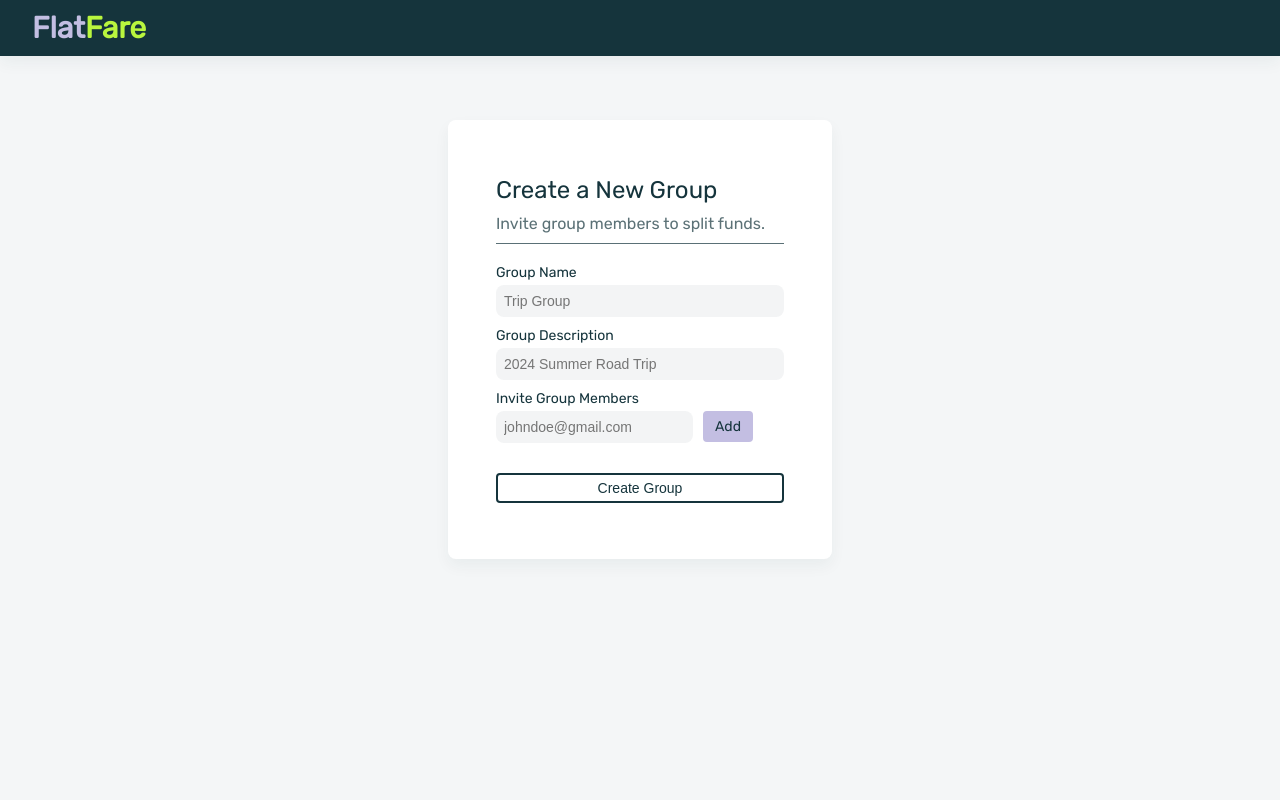
Test: CreateGroup Component › handles success state after submission
This screenshot has width=1280, height=800.
Fill form
In the field labelled "Group Name": (640, 301) [496, 285, 784, 317], type "Test Group"
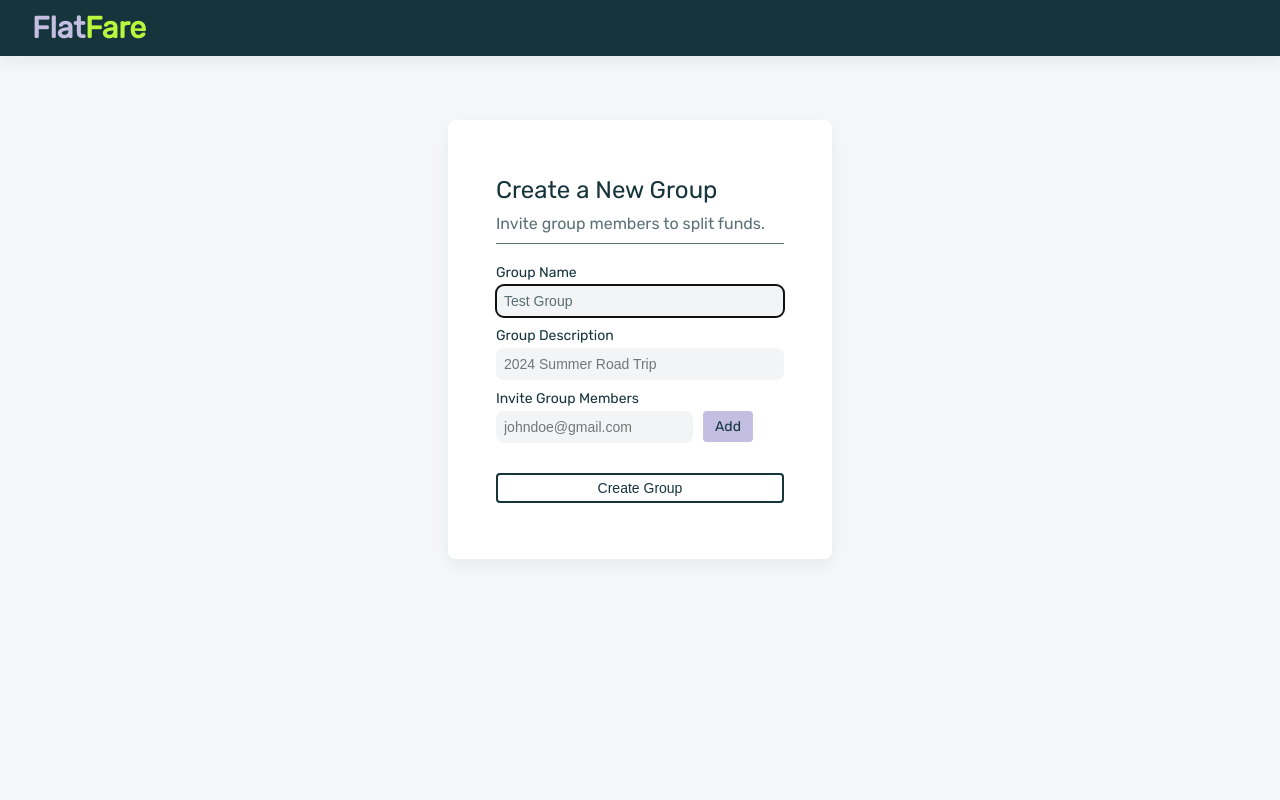
In the field labelled "Group Description": (640, 364) [496, 348, 784, 380], type "Test Description"
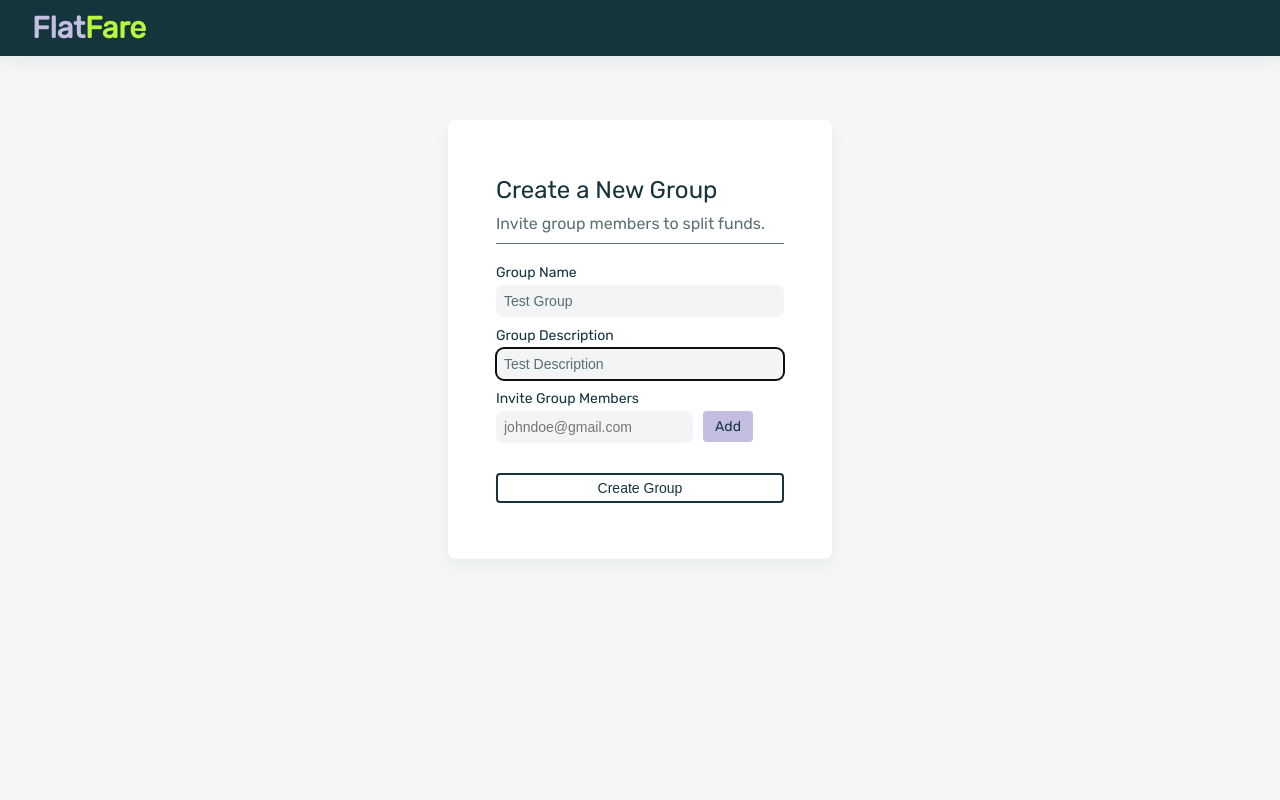
In the field labelled "Invite Group Members": (594, 427) [496, 411, 693, 443], type "test@example.com"
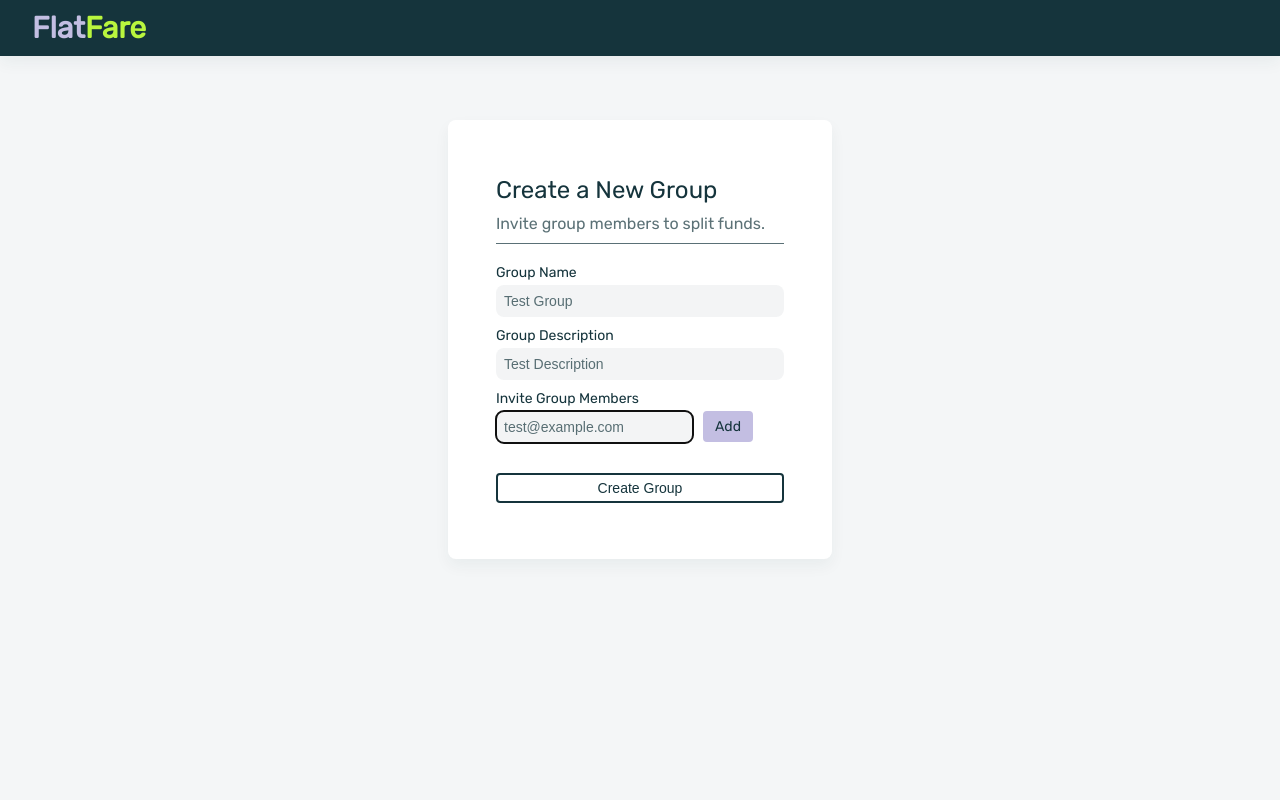
Click the button "Add": (728, 426) [703, 411, 753, 442]
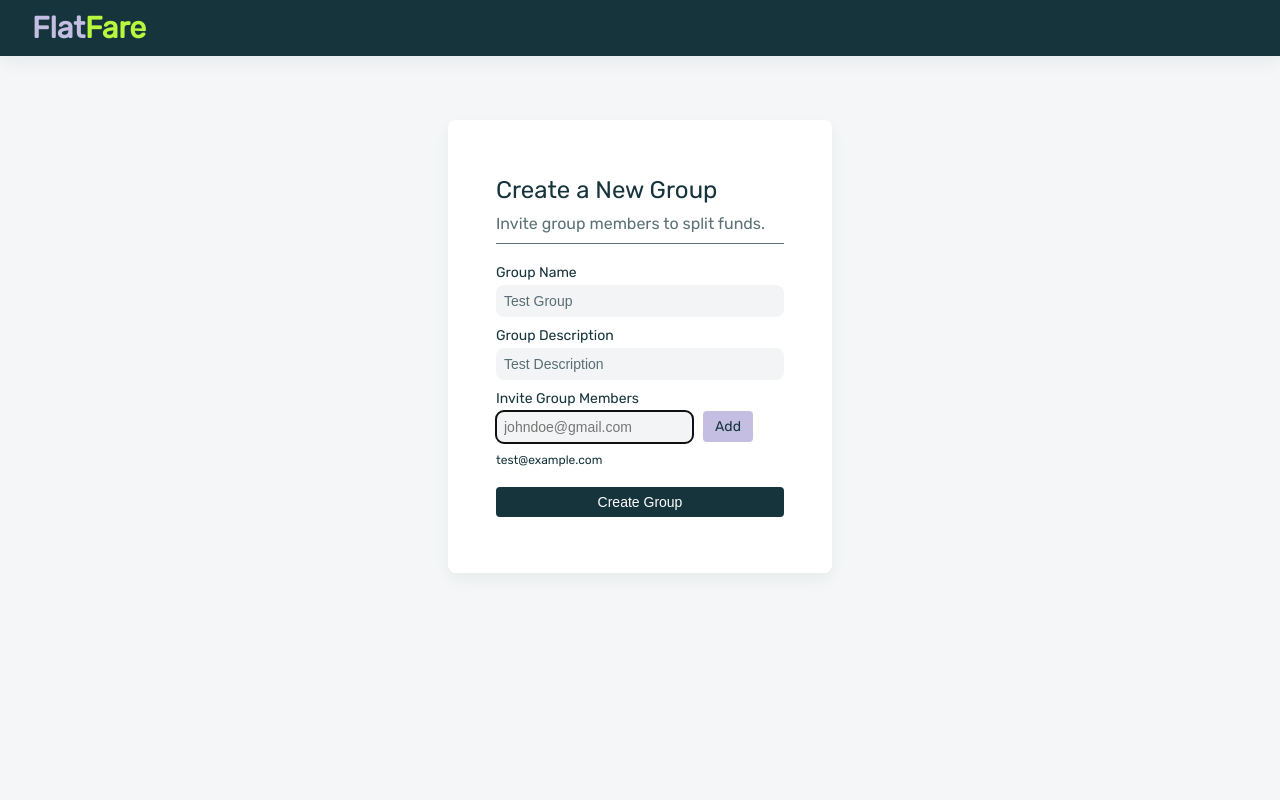
Submit form
Click the button "Create Group": (640, 502) [496, 487, 784, 517]
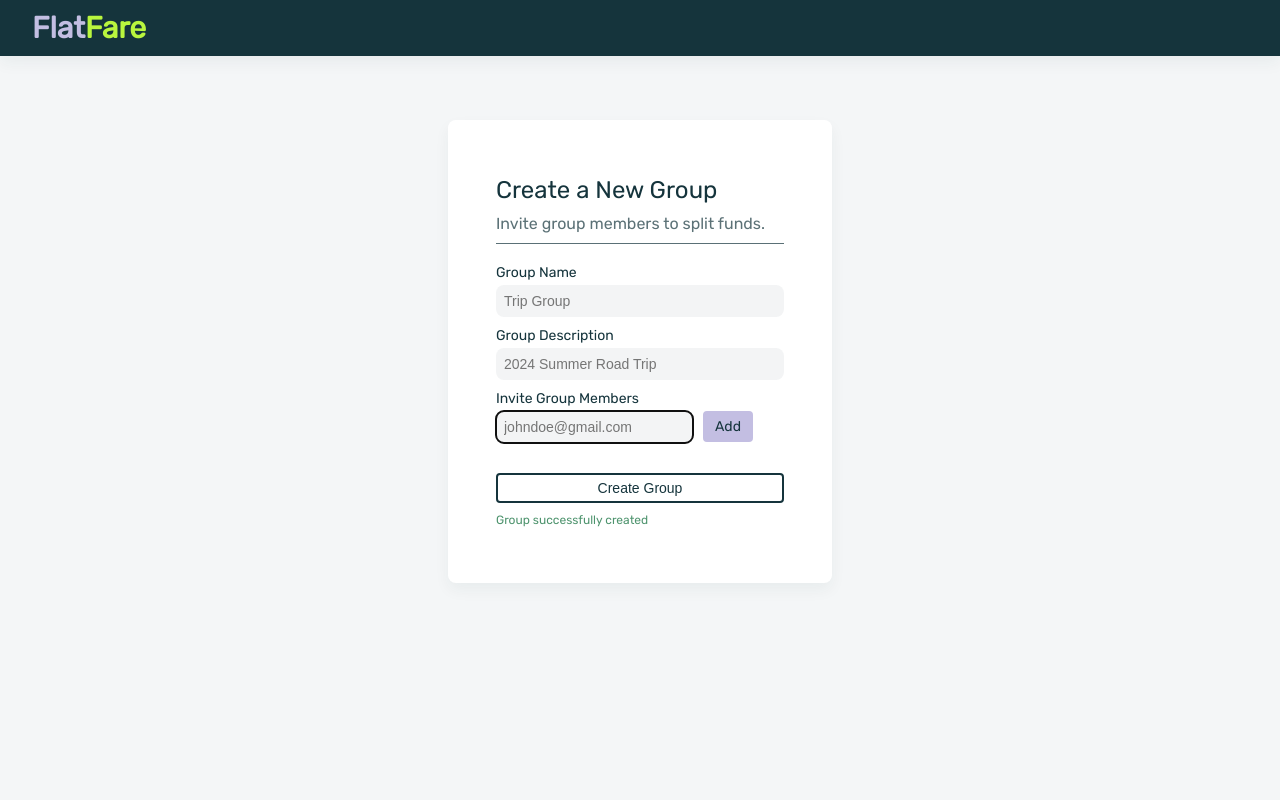
Check: the text "Group successfully created" is shown, box [496, 513, 648, 527]
